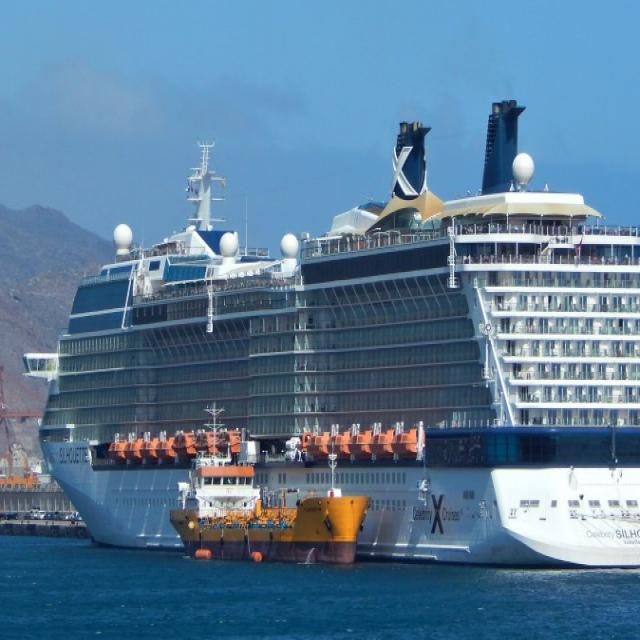cruises: (17, 96, 640, 590)
